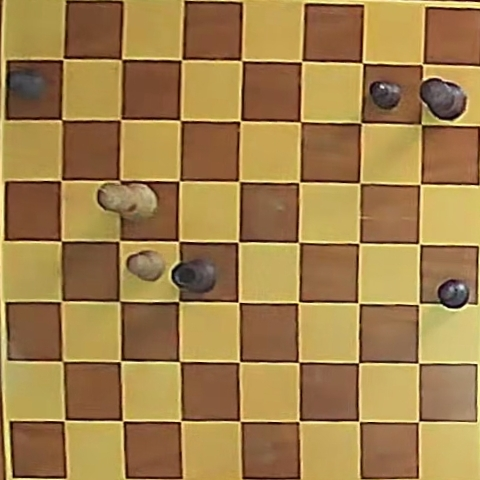black-king: (419, 78, 466, 121)
black-pawn: (8, 68, 46, 99), (437, 279, 469, 309), (370, 81, 402, 109)
black-rook: (171, 258, 217, 293)
white-king: (99, 182, 157, 221)
white-pawn: (126, 250, 166, 281)
